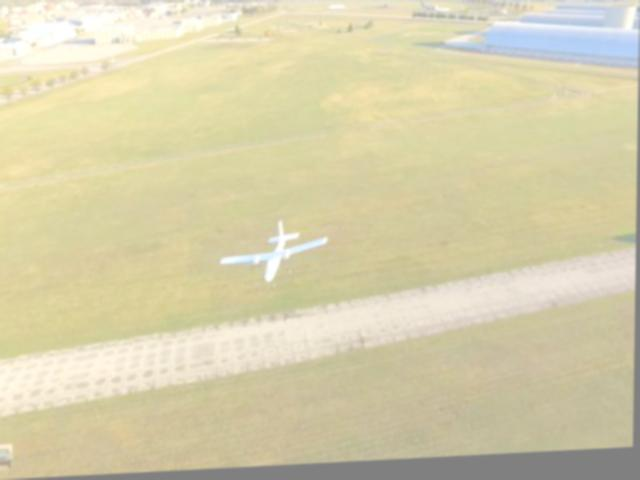uav: (221, 218, 328, 288)
